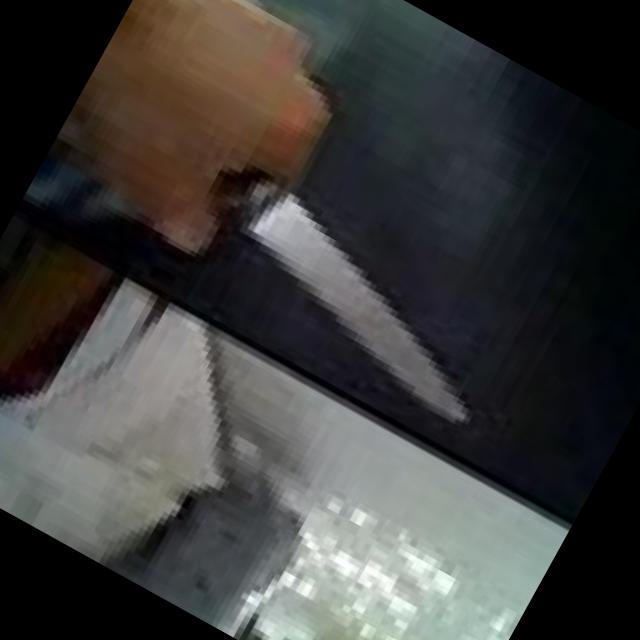knife: (163, 143, 542, 460)
